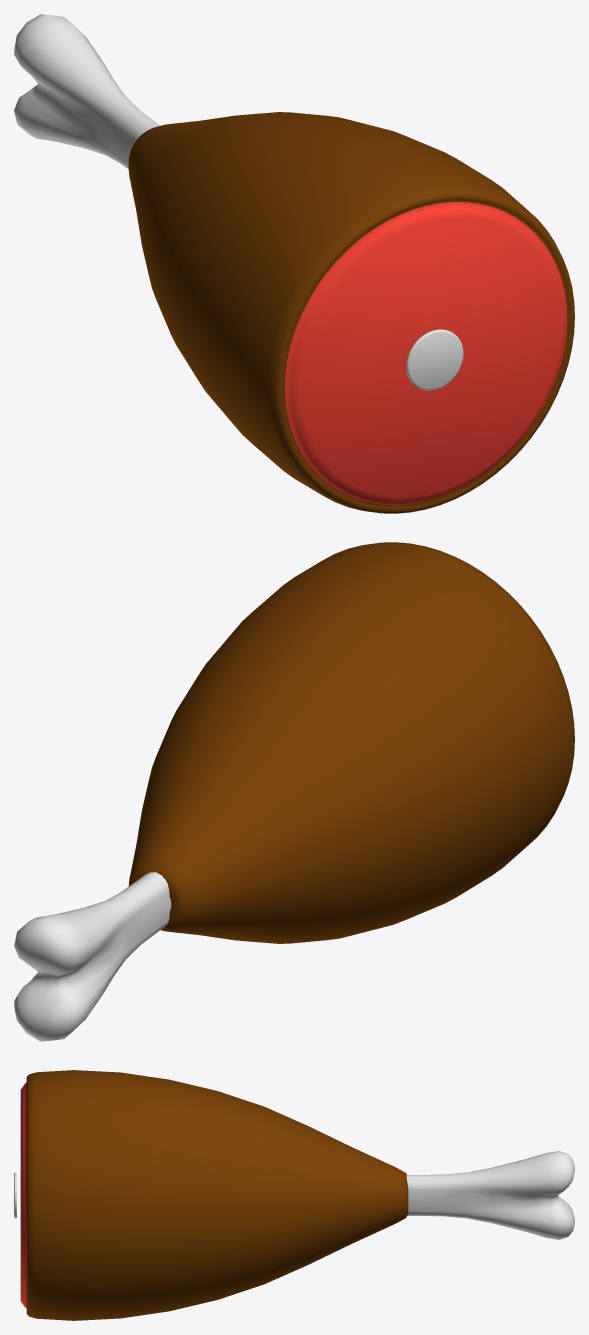
File: Jamon.fbx
3 renders of one model, top to bottom at view 1: azimuth 30°, elevation 25°; view 2: azimuth 150°, elevation 25°; view 3: azimuth 270°, elevation 25°, orthographic. The views are drawn at different scales.
Parts seen in each view (by area): view 1: Jamon.001; view 2: Jamon.001; view 3: Jamon.001.
Boxes of the visible parts, x1,y1,x2,y2 form: Jamon.001: [14, 14, 574, 513]; Jamon.001: [14, 542, 574, 1041]; Jamon.001: [14, 1070, 574, 1320].
Size of the model in its own units: 71.05 by 71.05 by 159.
